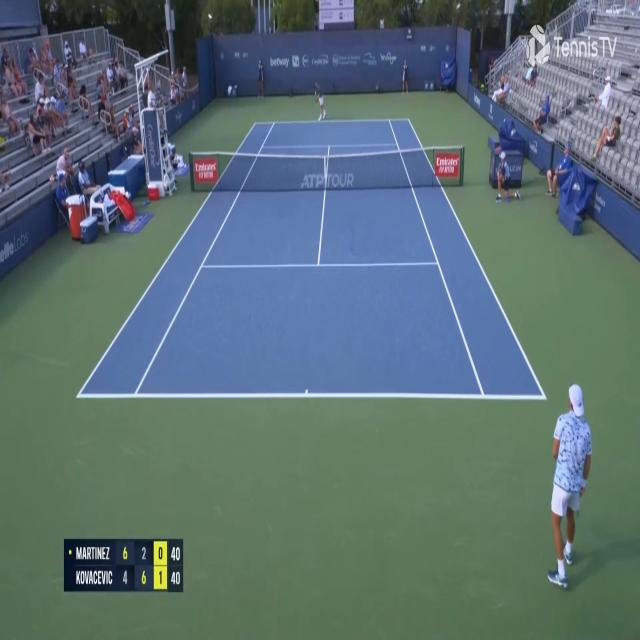tennis-player: (546, 378, 596, 593), (310, 78, 327, 122)
